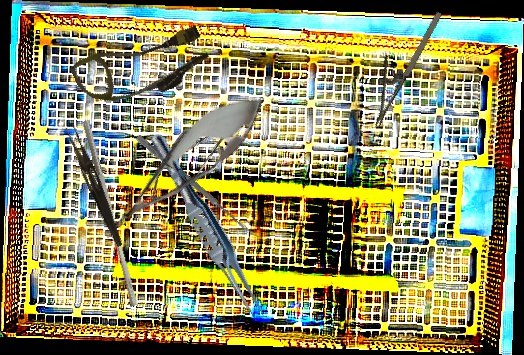Cannula: (68, 10, 216, 124)
Dressing Forceps: (61, 124, 129, 248)
Micro Scissor: (87, 77, 278, 256), (138, 100, 254, 214)
Needle Holder: (351, 0, 446, 130)
Pusher: (74, 119, 145, 308)
Surgical Spoon: (134, 134, 253, 235)
Tissue Forceps: (140, 128, 276, 328)
